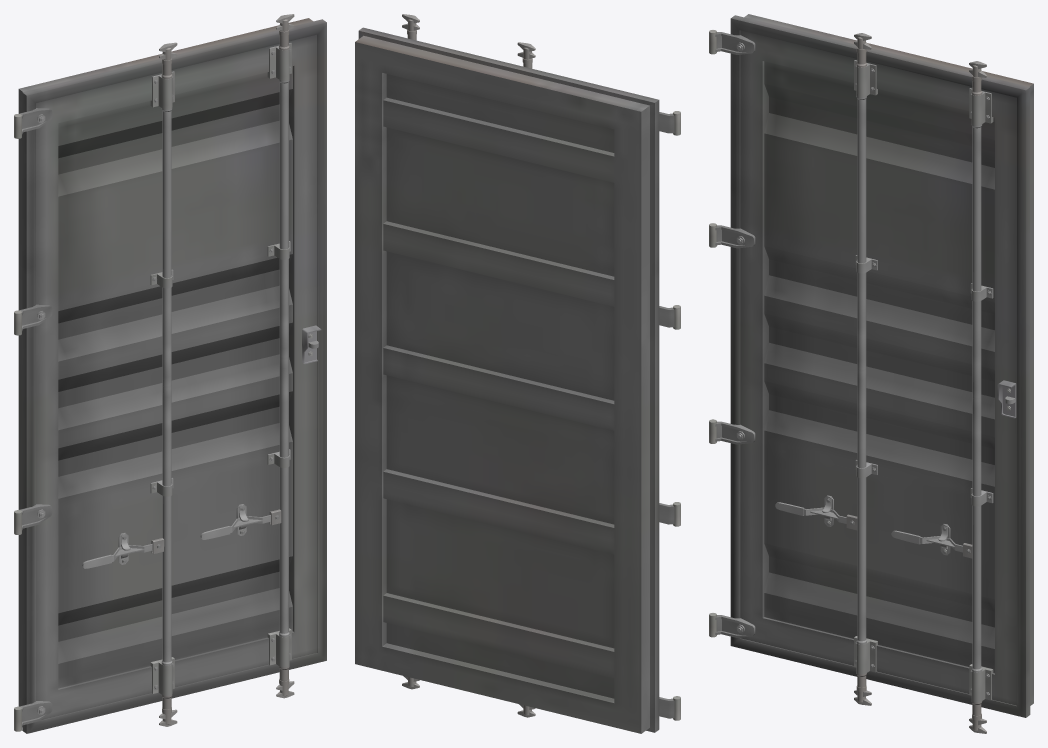
File: SM_ContainerDoorL_7d42b8.glb
3 views of the same model, side by side, from view 1: azimuth 30°, elevation 25°; view 2: azimuth 150°, elevation 25°; view 3: azimuth 330°, elevation 25° (orthographic).
Bounding box in the file's own units: 1.22 × 2.51 × 0.1322.
Materials: 1 (1 with a texture image).
